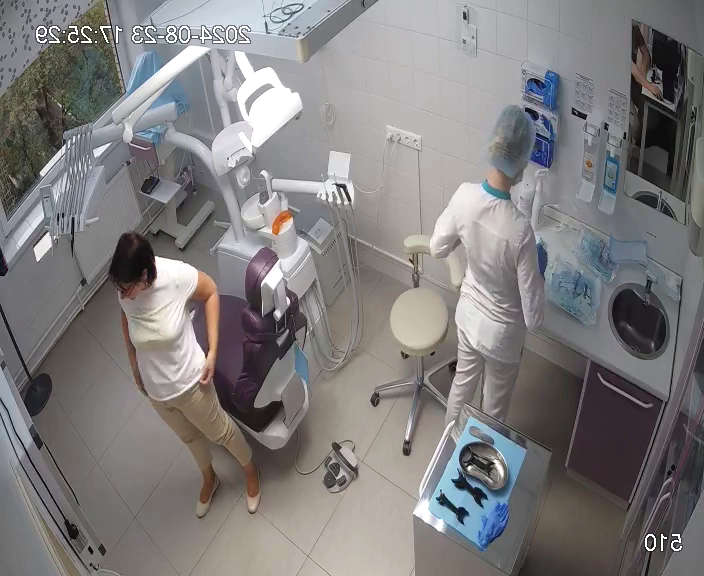Empty: (190, 246, 328, 453)
